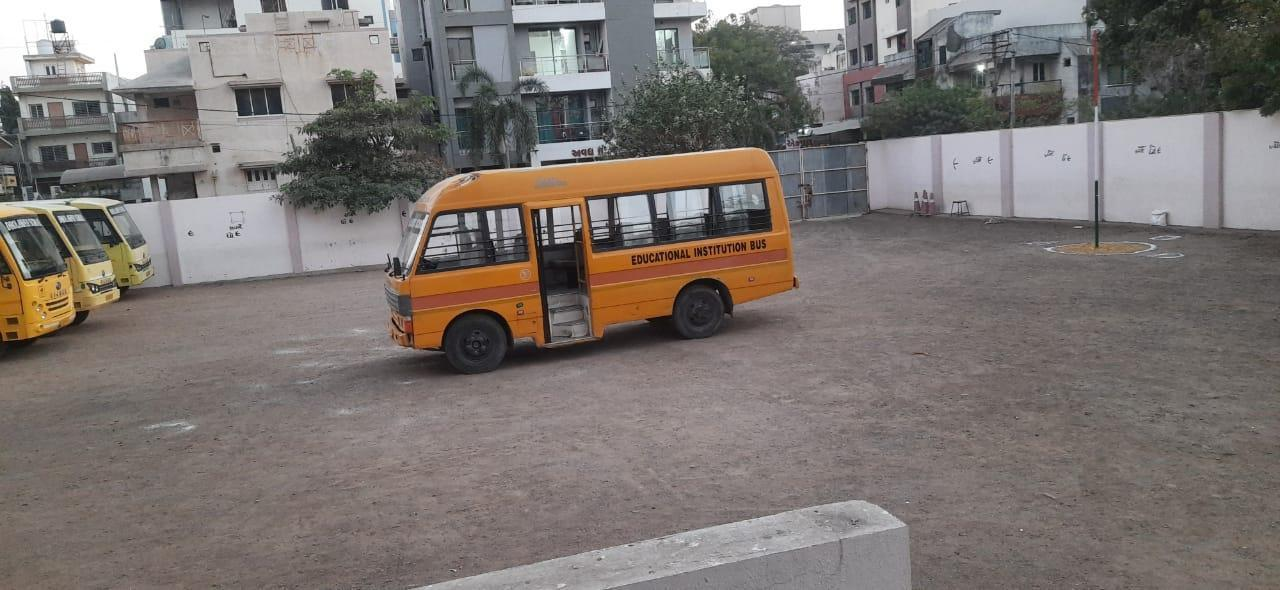Bus: (360, 143, 832, 383), (3, 214, 75, 346), (49, 207, 121, 324), (89, 194, 161, 295)
